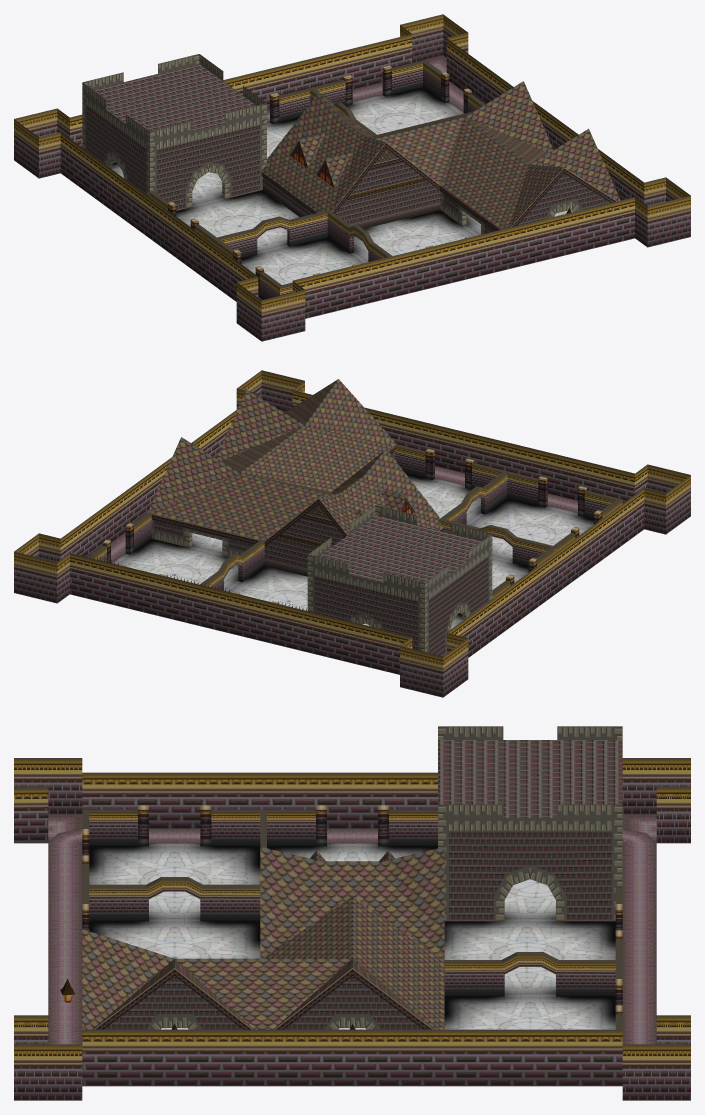
The model's file is MansionZombie.fbx.
3 renders of one model, top to bottom at view 1: azimuth 30°, elevation 25°; view 2: azimuth 150°, elevation 25°; view 3: azimuth 270°, elevation 25°, orthographic. The views are drawn at different scales.
Visible parts, largest first — view 1: ZombieMansion:polygon16; view 2: ZombieMansion:polygon16; view 3: ZombieMansion:polygon16.
Boxes of the visible parts, left/top/right/bottom form: ZombieMansion:polygon16: left=14, top=14, right=690, bottom=341; ZombieMansion:polygon16: left=14, top=370, right=690, bottom=697; ZombieMansion:polygon16: left=14, top=726, right=690, bottom=1100.
Size of the model in its own units: 2484 by 474 by 2485.
13 materials, 13 textured.
